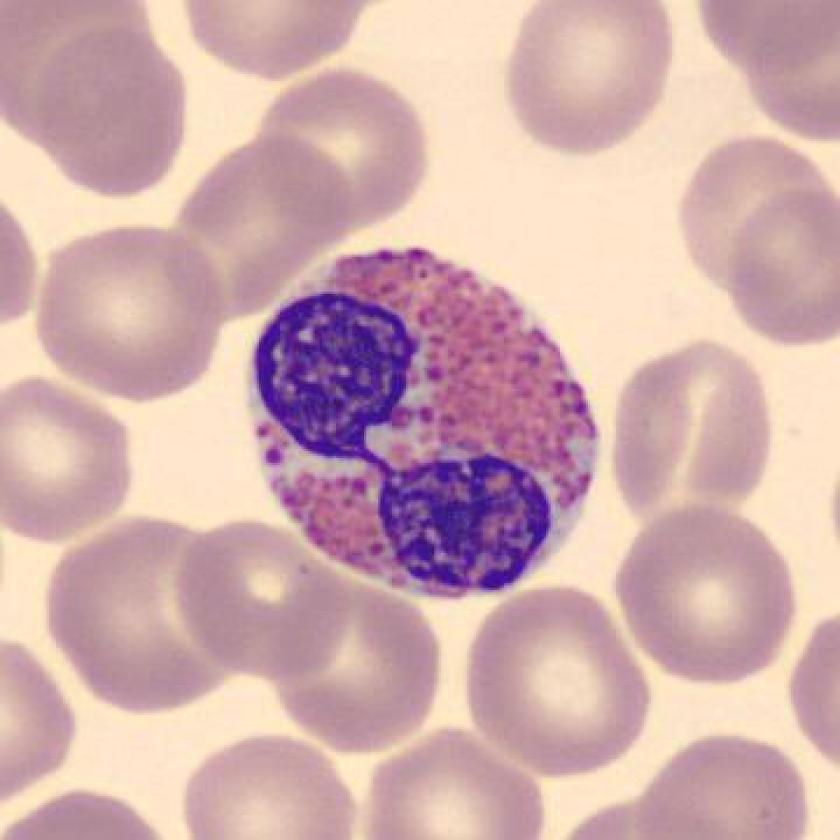eosinophil: (237, 230, 610, 612)
